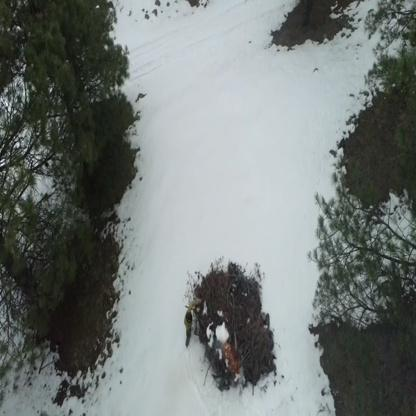Fire: (224, 342, 240, 372)
